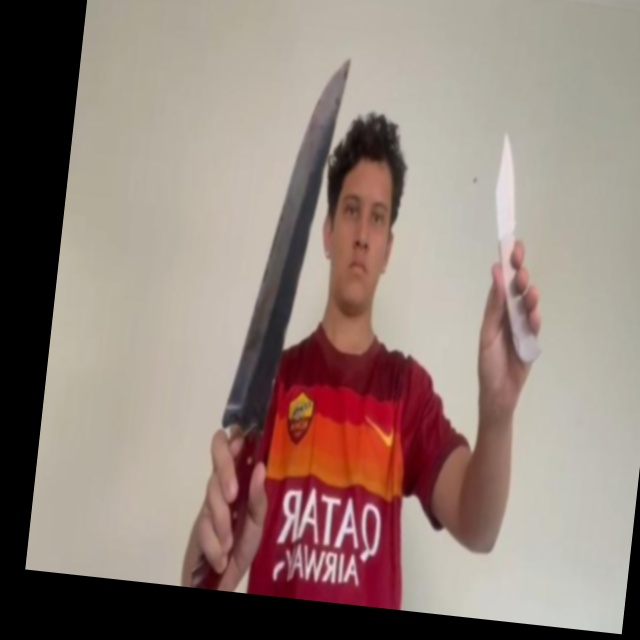Sharp-Object: (220, 47, 352, 443), (491, 132, 527, 235)
